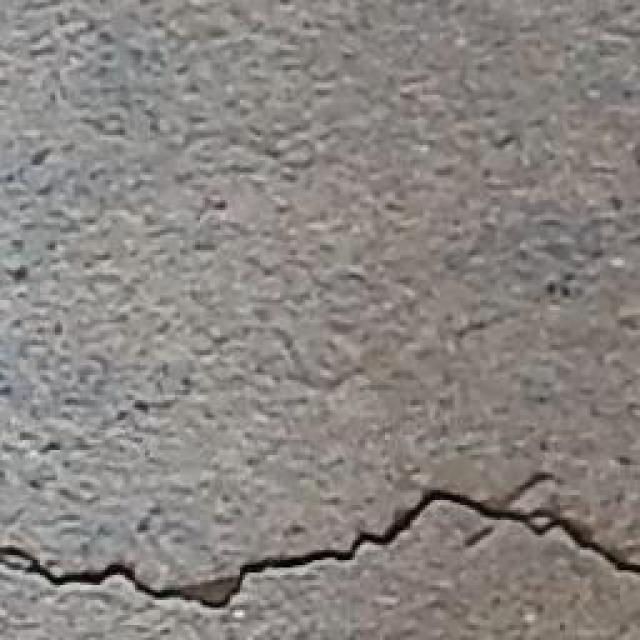concrete-crack: (0, 489, 640, 612), (487, 474, 559, 507)
